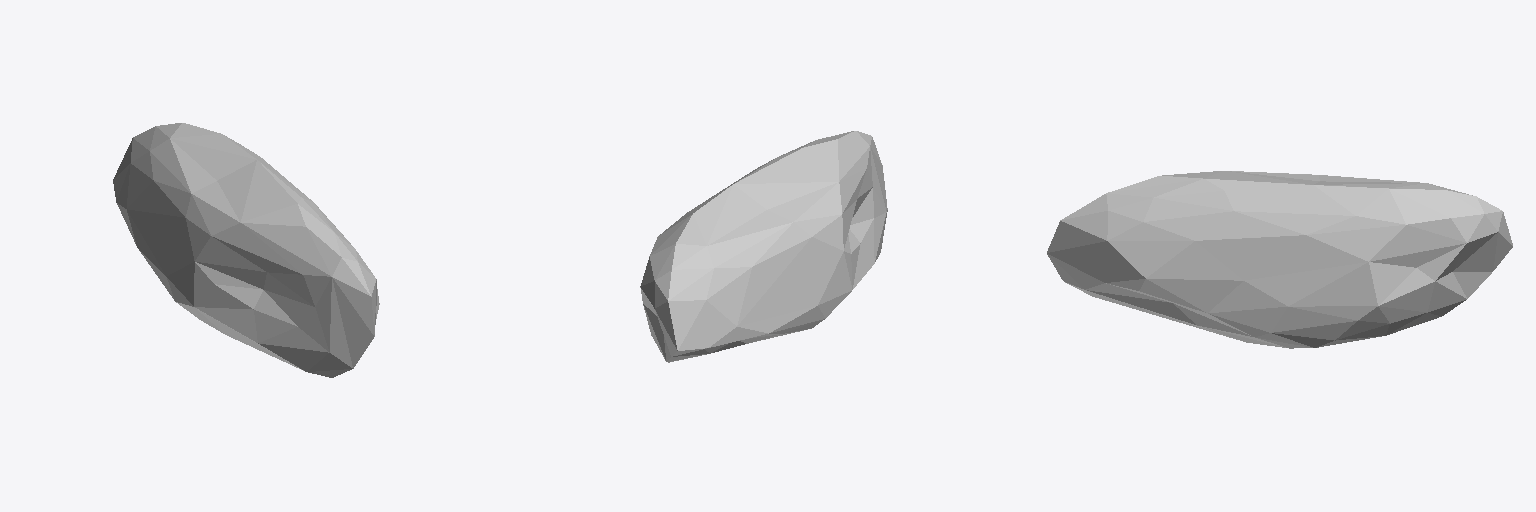
Rendered from ROCK.obj.
3 views of the same model, side by side, from view 1: azimuth 30°, elevation 25°; view 2: azimuth 150°, elevation 25°; view 3: azimuth 270°, elevation 25° (orthographic).
Visible parts, largest first — view 1: Cube.001; view 2: Cube.001; view 3: Cube.001.
Boxes of the visible parts, <box> form: Cube.001: <box>113,123,379,377</box>; Cube.001: <box>640,131,887,362</box>; Cube.001: <box>1047,171,1512,348</box>.
Size of the model in its own units: 1.64 by 1.7 by 4.53.